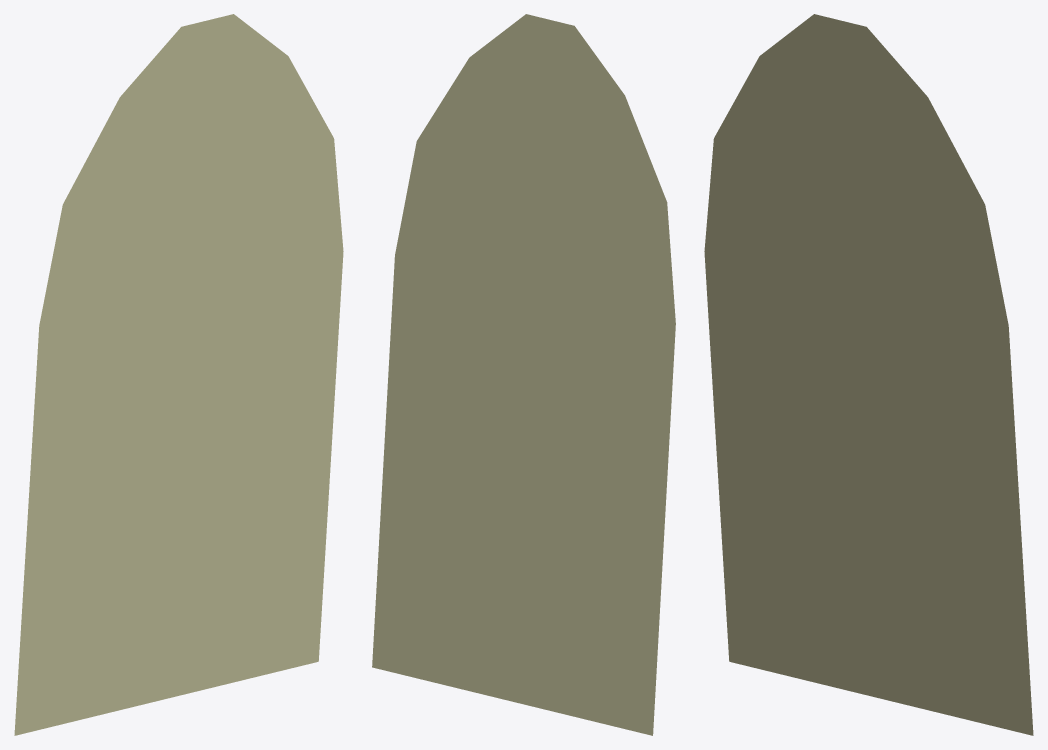
File: Building_usagi_mado_hikari.fbx
The picture shows the model from 3 angles, left to right: view 1: azimuth 30°, elevation 25°; view 2: azimuth 150°, elevation 25°; view 3: azimuth 330°, elevation 25°; orthographic projection. The views are drawn at different scales.
Parts seen in each view (by area): view 1: mado_hikari; view 2: mado_hikari; view 3: mado_hikari.
Part boxes in pixels (x1,y1,x2,y2): mado_hikari: [14, 14, 343, 735]; mado_hikari: [372, 14, 675, 735]; mado_hikari: [704, 14, 1033, 735].
Size of the model in its own units: 55.16 by 123 by 12.86.
Materials: 1 (1 with a texture image).
